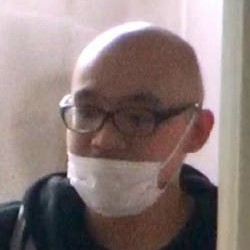mask: (65, 145, 169, 217)
